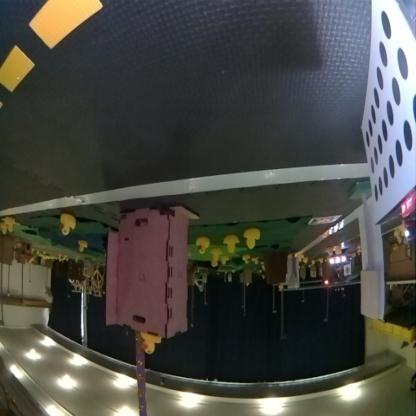Duckie: (141, 334, 161, 354), (61, 216, 76, 236), (244, 230, 260, 248), (224, 235, 238, 254), (196, 238, 208, 254), (4, 218, 13, 232), (210, 250, 220, 262), (78, 242, 86, 252), (220, 258, 228, 266), (242, 256, 249, 264), (0, 228, 7, 235), (252, 258, 258, 266), (297, 254, 302, 262)
QR code: (308, 218, 340, 226)
